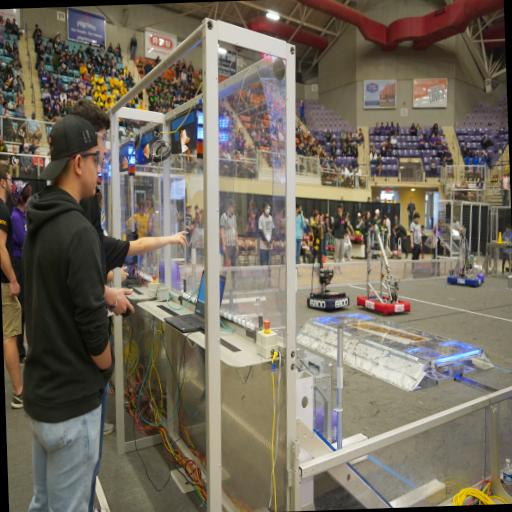robot: (352, 220, 413, 316), (304, 240, 348, 313), (444, 224, 484, 290)
